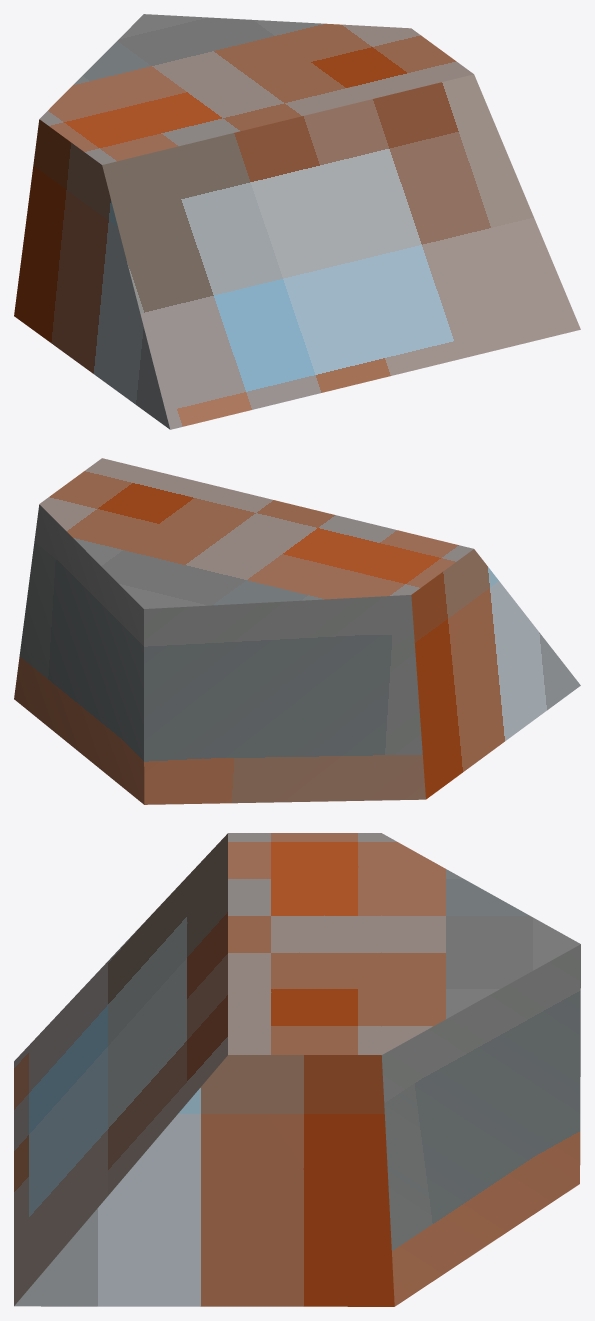
3 renders of one model, top to bottom at view 1: azimuth 30°, elevation 25°; view 2: azimuth 150°, elevation 25°; view 3: azimuth 270°, elevation 25°, orthographic. The views are drawn at different scales.
Parts seen in each view (by area): view 1: FrontUVLOD2; view 2: FrontUVLOD2; view 3: FrontUVLOD2.
Part boxes in pixels (bbox=[...]): FrontUVLOD2: bbox=[14, 14, 580, 429]; FrontUVLOD2: bbox=[14, 458, 580, 804]; FrontUVLOD2: bbox=[14, 833, 580, 1306].
Bounding box in the file's own units: 5 × 2.27 × 4.87.
